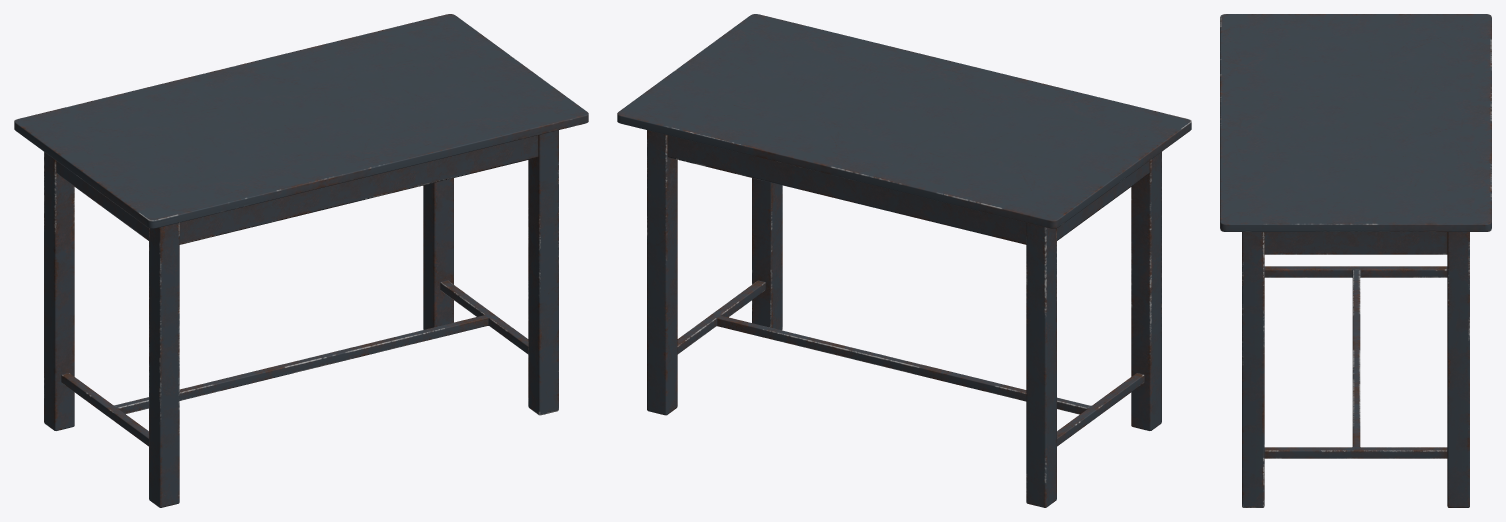
File: desk15.glb
3 views of the same model, side by side, from view 1: azimuth 30°, elevation 25°; view 2: azimuth 150°, elevation 25°; view 3: azimuth 270°, elevation 25° (orthographic). The views are drawn at different scales.
Parts seen in each view (by area): view 1: metal_table; view 2: metal_table; view 3: metal_table.
Boxes of the visible parts, bbox=[...] form: metal_table: bbox=[14, 14, 588, 507]; metal_table: bbox=[617, 14, 1191, 507]; metal_table: bbox=[1220, 14, 1491, 507].
Bounding box in the file's own units: 0.55 × 0.3583 × 0.3.
1 material, 1 textured.
